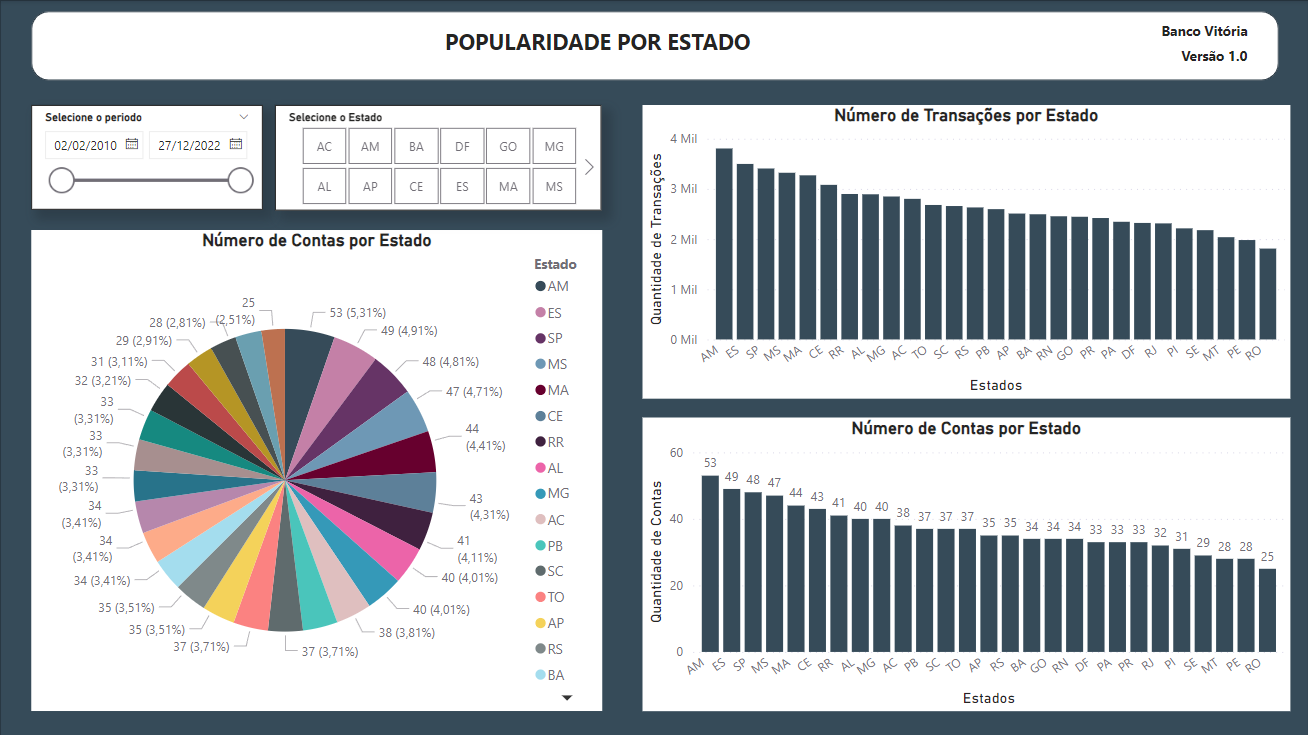

The dashboard page shown, as its layout file describes it:
{"tool":"powerbi","page":{"name":"Popularidade por Estado","canvas":[1280,720],"ordinal":1},"visuals":[{"type":"shape","box":[0,0,1280,720],"z":0},{"type":"shape","box":[30,10.8,1220,67.7],"z":1000},{"type":"textbox","box":[430.3,20.8,720,47.7],"z":2000},{"type":"textbox","box":[1131.2,16.2,107.5,28.8],"z":3000},{"type":"textbox","box":[1150.8,40.8,83.1,28.5],"z":4000},{"type":"slicer","fields":{"Values":["contas1 0.data_abertura"]},"box":[30.6,102.7,226.1,102.7],"z":5000},{"type":"pieChart","title":"Número de Contas por Estado","fields":{"Category":["clientes.estado"],"Y":["CountNonNull(clientes.cod_cliente)"]},"box":[30.6,224.9,558.6,470.6],"z":6000},{"type":"clusteredColumnChart","title":"Número de Contas por Estado","fields":{"Y":["CountNonNull(clientes.cod_cliente)"],"Category":["clientes.estado"]},"box":[628.3,408.3,633.2,287.3],"z":8000},{"type":"clusteredColumnChart","title":"Número de Transações por Estado","fields":{"Category":["clientes.estado"],"Y":["CountNonNull(transacoes2 0.nome_transacao)"]},"box":[628.3,102.7,633.2,287.3],"z":8001},{"type":"slicer","fields":{"Values":["transacoes2 0.estado"]},"box":[268.7,102.8,319.5,102.8],"z":8002}]}

Visuals, with their boxes in screenshot pixels (x1, y1, x2, y2), scaled from the page's 1280x720 canvas onto the 1308x735 screenshot:
shape: [0,0,1307,734]
shape: [31,11,1277,80]
textbox: [440,21,1175,70]
textbox: [1156,17,1266,46]
textbox: [1176,42,1261,71]
slicer - contas1 0.data_abertura: [31,105,262,210]
"Número de Contas por Estado" pieChart: [31,230,602,710]
"Número de Contas por Estado" clusteredColumnChart: [642,417,1289,710]
"Número de Transações por Estado" clusteredColumnChart: [642,105,1289,398]
slicer - transacoes2 0.estado: [275,105,601,210]
